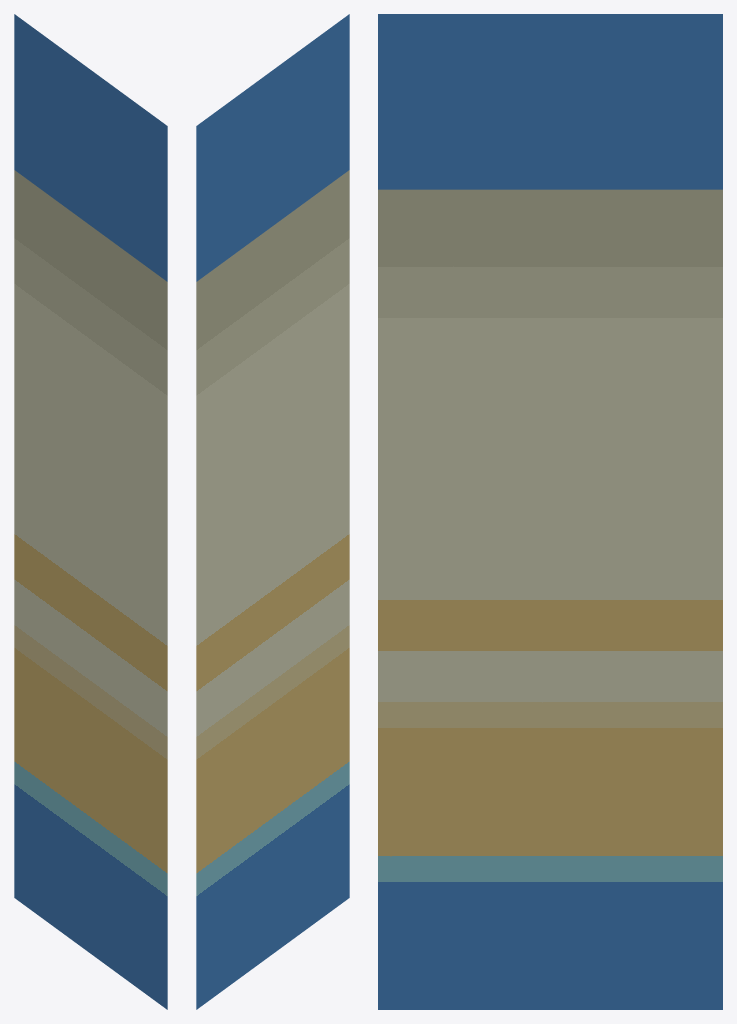
3 renders of one model, left to right at view 1: azimuth 30°, elevation 25°; view 2: azimuth 150°, elevation 25°; view 3: azimuth 270°, elevation 25°, orthographic. The views are drawn at different scales.
Size of the model in its own units: 0 by 3.19 by 1.
Materials: 2 (2 with a texture image).
